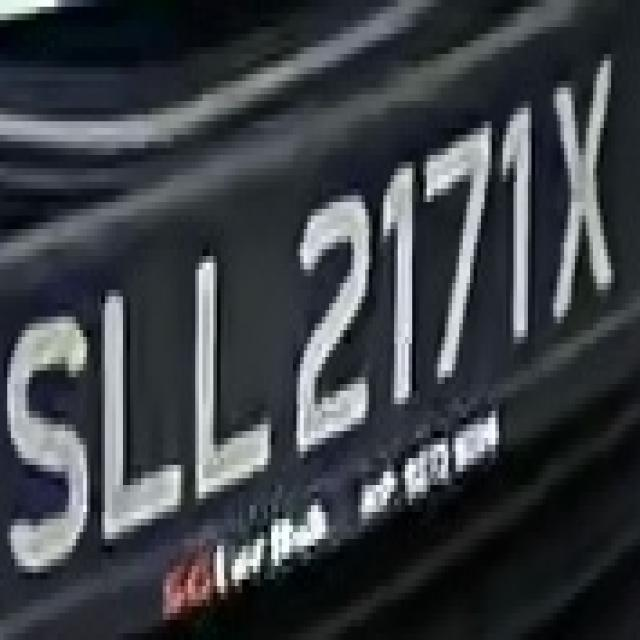1: (380, 128, 430, 438), (506, 67, 532, 364)
2: (282, 182, 380, 465)
7: (430, 128, 510, 418)
L: (180, 222, 286, 506), (98, 262, 184, 546)
S: (11, 303, 90, 600)
X: (546, 61, 626, 330)
